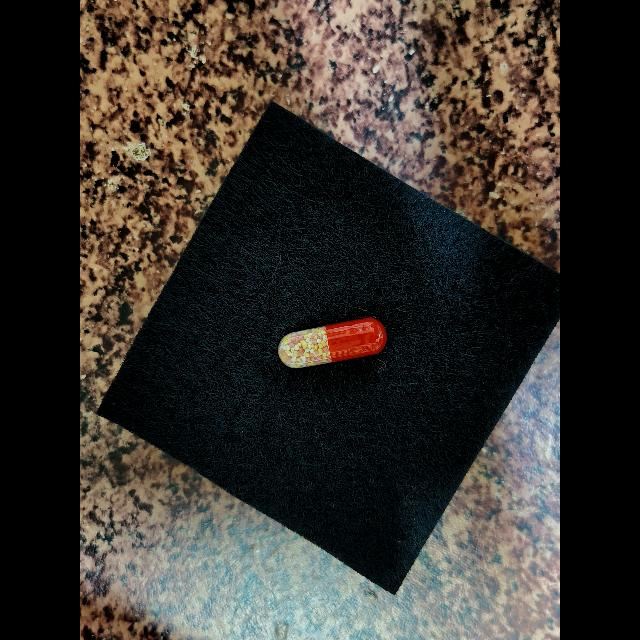Intact Capsule: (278, 317, 387, 368)
